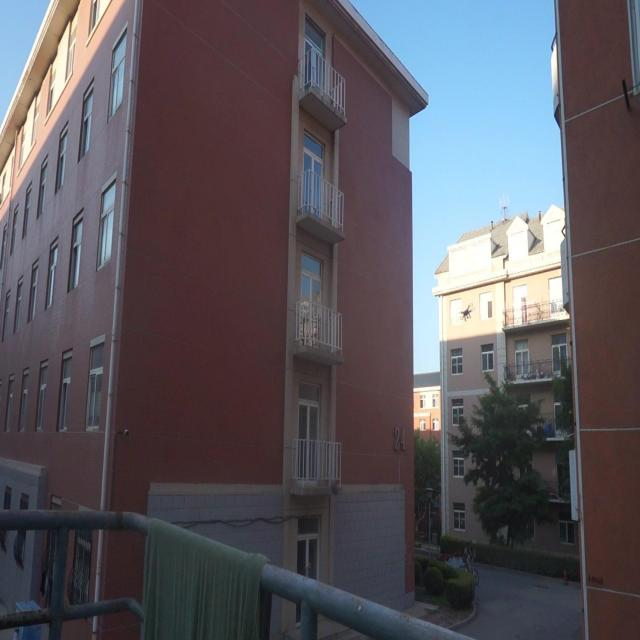UAV: (460, 303, 476, 322)
